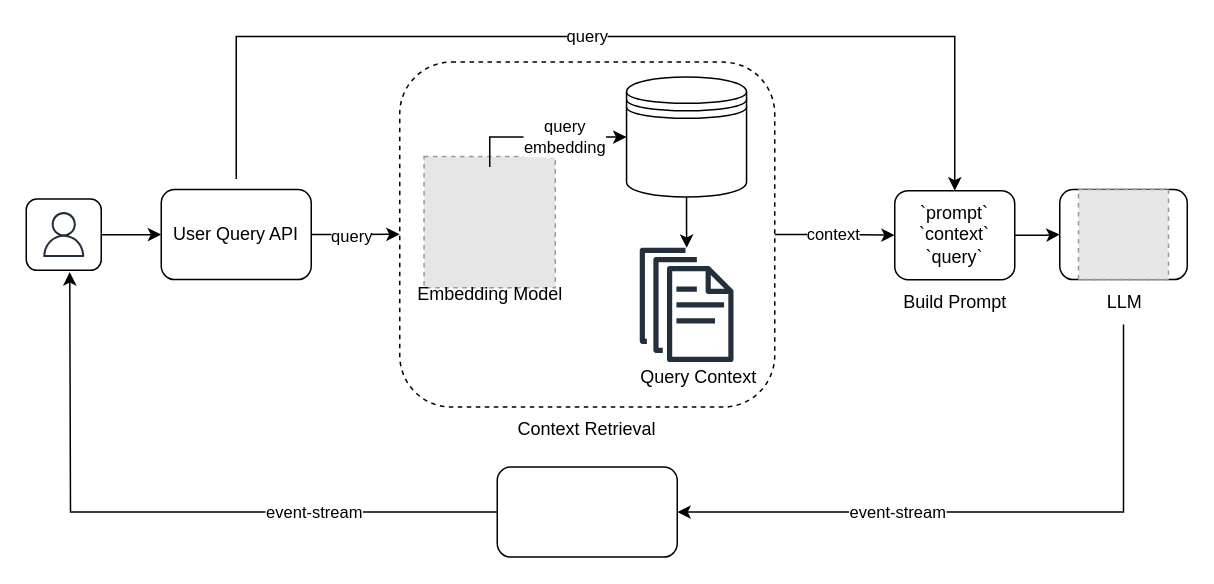
This 1214x584 diagram has some shape labels left out. Grey dashed boxes stand in for pictures. The centre of each missing label's shape, as x and y in pixels:
"Process chunks" belongs at point 586,511.
"Vector Store" belongs at point 686,136.
